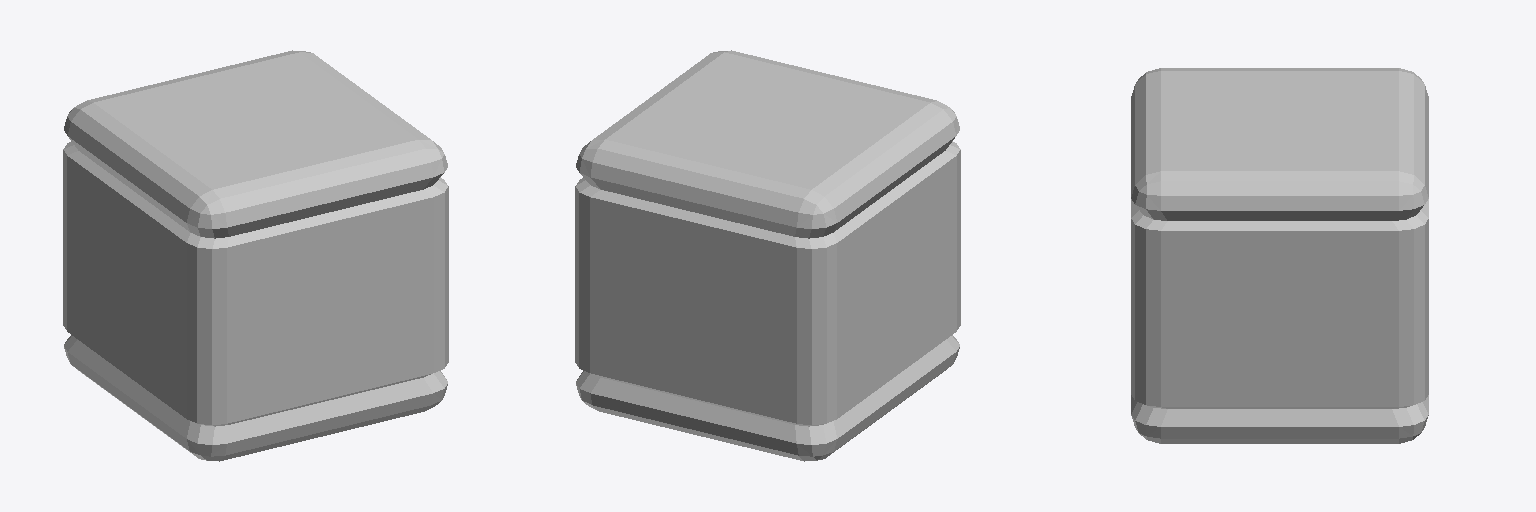
Rendered from powerupBlock_teamBlue.obj.
3 views of the same model, side by side, from view 1: azimuth 30°, elevation 25°; view 2: azimuth 150°, elevation 25°; view 3: azimuth 270°, elevation 25° (orthographic).
Visible parts, largest first — view 1: powerupBlock_teamBlue_Cube.1336; view 2: powerupBlock_teamBlue_Cube.1336; view 3: powerupBlock_teamBlue_Cube.1336.
Part boxes in pixels (bbox=[...]): powerupBlock_teamBlue_Cube.1336: bbox=[63, 50, 448, 461]; powerupBlock_teamBlue_Cube.1336: bbox=[575, 50, 960, 461]; powerupBlock_teamBlue_Cube.1336: bbox=[1131, 68, 1428, 443].
Size of the model in its own units: 1 by 1 by 1.